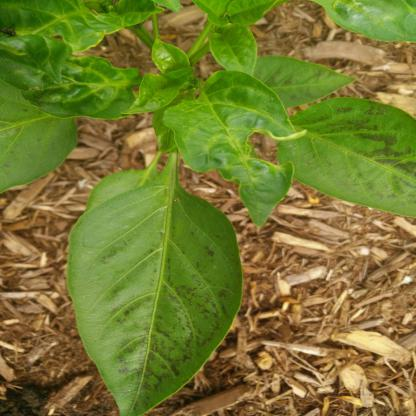Bell_pepper leaf: (67, 183, 245, 416), (155, 73, 306, 228), (280, 94, 416, 220), (1, 82, 80, 193), (245, 53, 357, 107)
